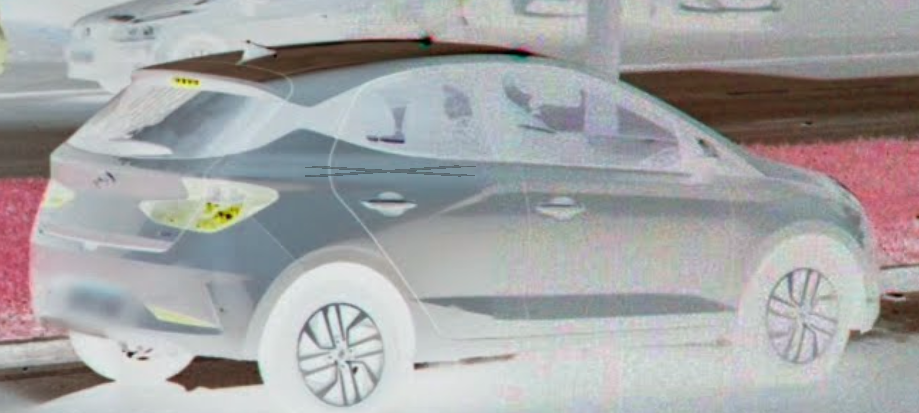car: (39, 39, 881, 411)
